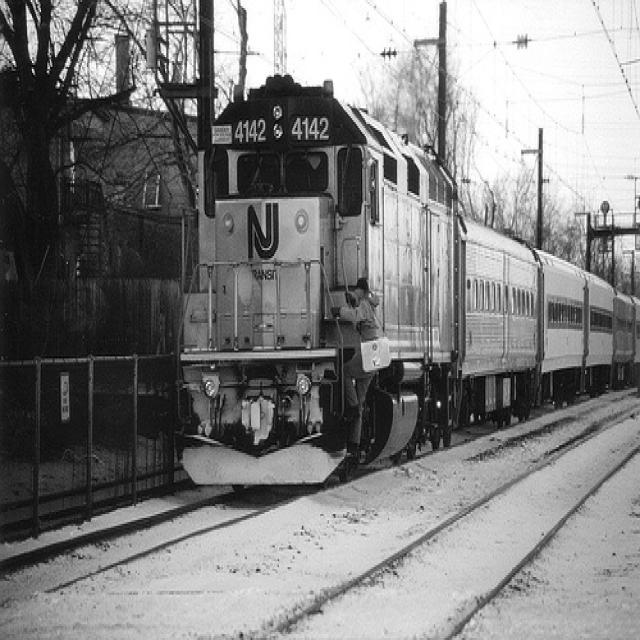train: (179, 71, 639, 486)
